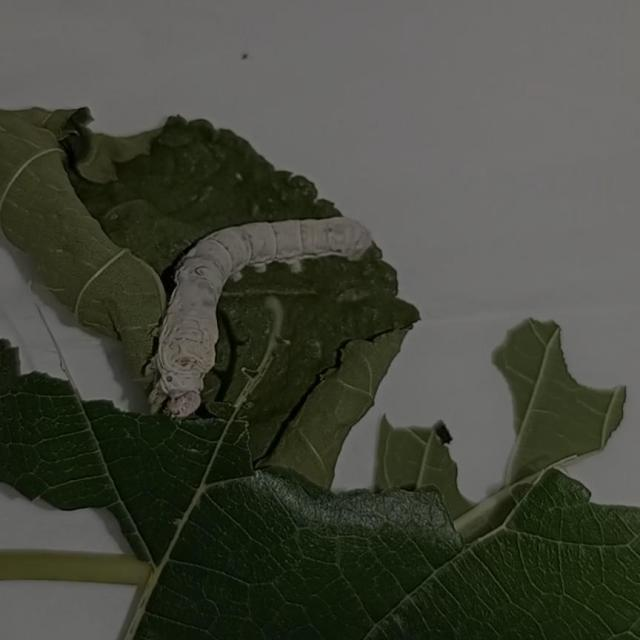Healthy: (111, 180, 468, 440)
